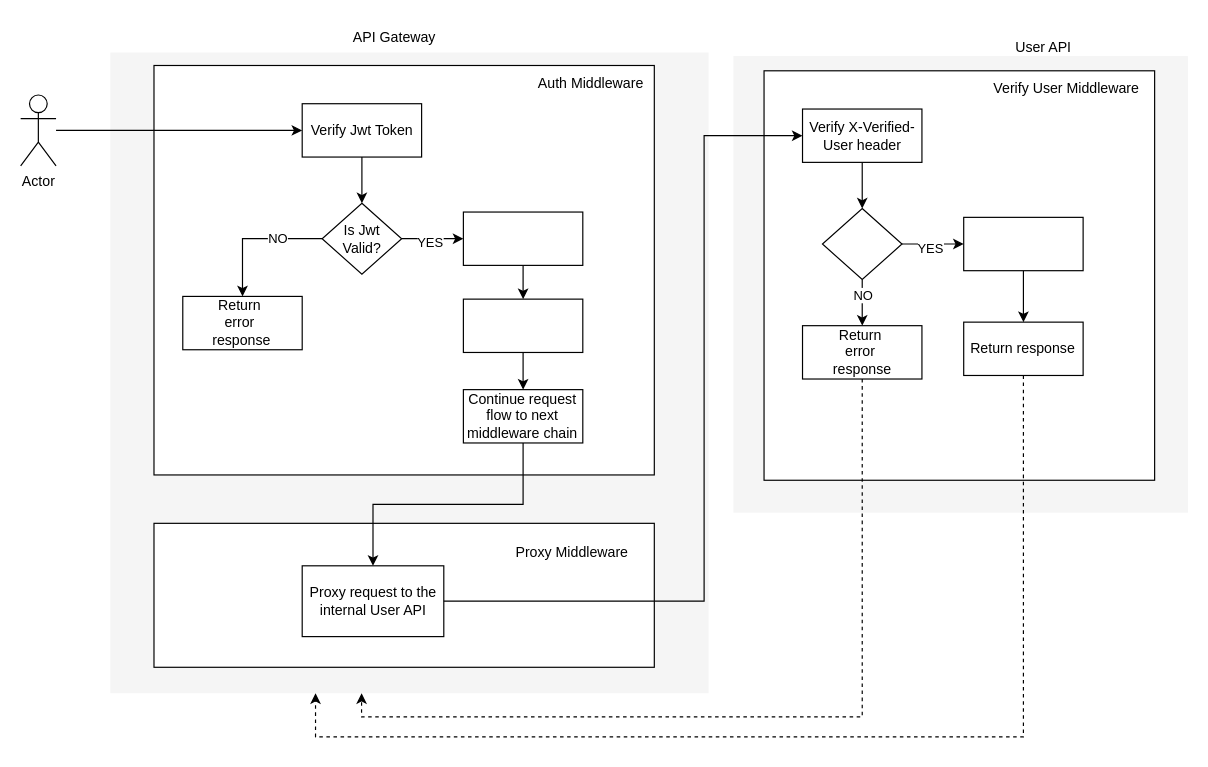
The diagram is 1208 pixels wide and 767 high, and some of its shapes have lost their labels. The centre of each missing label's shape, as x and y in pixels:
Add new "X-Verified-User" header: [522,325]
Extract UserId/Sub from token: [522,238]
Is present?: [861,243]
Process request: [1023,243]
